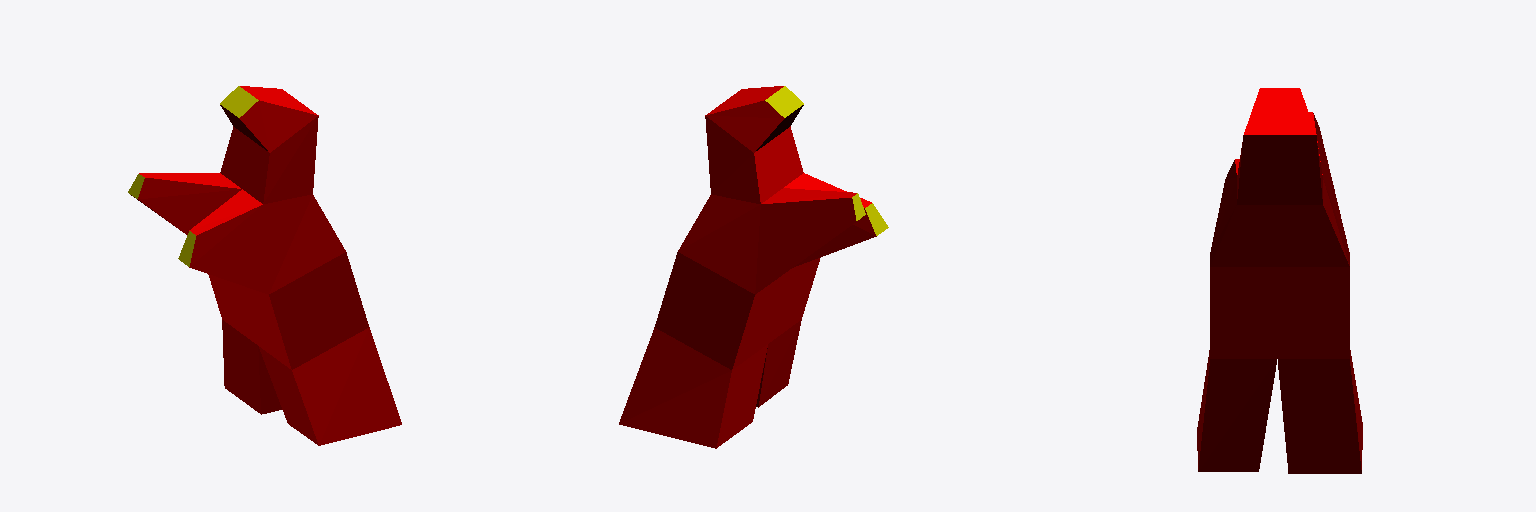
The model's file is bear.obj.
3 views of the same model, side by side, from view 1: azimuth 30°, elevation 25°; view 2: azimuth 150°, elevation 25°; view 3: azimuth 270°, elevation 25° (orthographic).
Parts seen in each view (by area): view 1: Cube.001; view 2: Cube.001; view 3: Cube.001.
Boxes of the visible parts, box(x1,y1,x2,y2) form: Cube.001: box(128, 86, 401, 445); Cube.001: box(619, 86, 888, 448); Cube.001: box(1197, 88, 1362, 473).
Bounding box in the file's own units: 63.88 × 92.7 × 42.38.